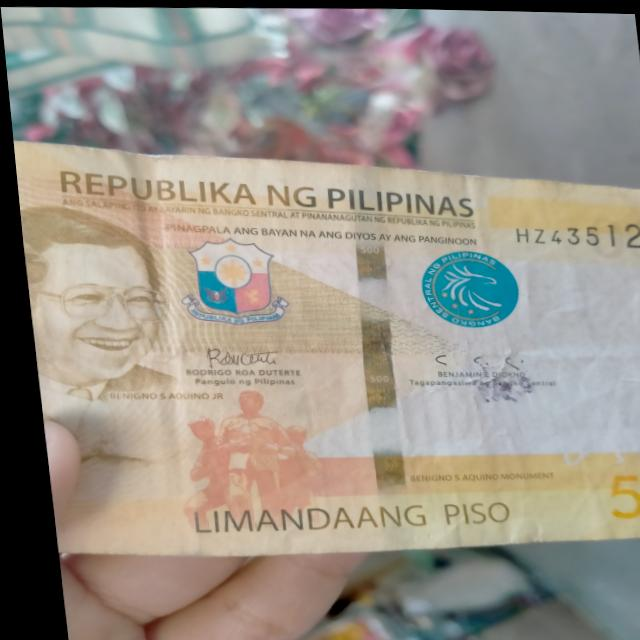security_thread: (328, 163, 406, 552)
serial_number: (476, 199, 640, 260)
watermark: (522, 266, 640, 420)
